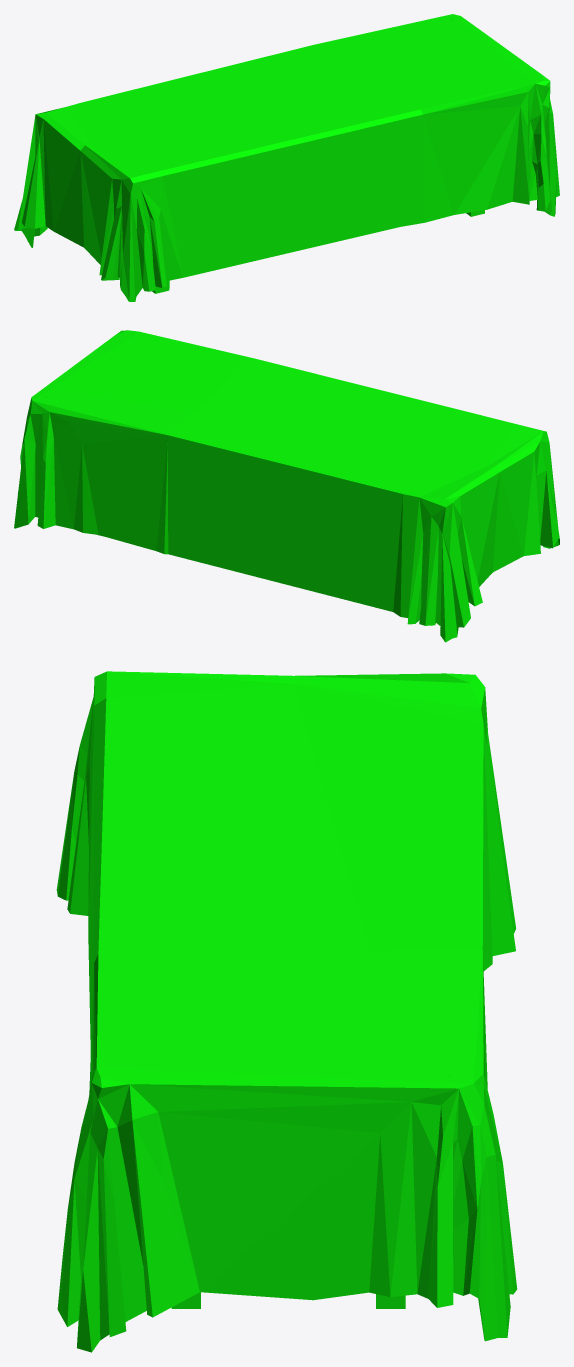
Rendered from SM_Table_Market_B_Short.fbx.
3 renders of one model, top to bottom at view 1: azimuth 30°, elevation 25°; view 2: azimuth 150°, elevation 25°; view 3: azimuth 270°, elevation 25°, orthographic. The views are drawn at different scales.
Visible parts, largest first — view 1: table-market-b-short; view 2: table-market-b-short; view 3: table-market-b-short.
Boxes of the visible parts, left/top/right/bottom form: table-market-b-short: left=14, top=14, right=559, bottom=301; table-market-b-short: left=14, top=330, right=559, bottom=642; table-market-b-short: left=56, top=671, right=517, bottom=1352.
Size of the model in its own units: 2.83 by 0.8111 by 1.23.
